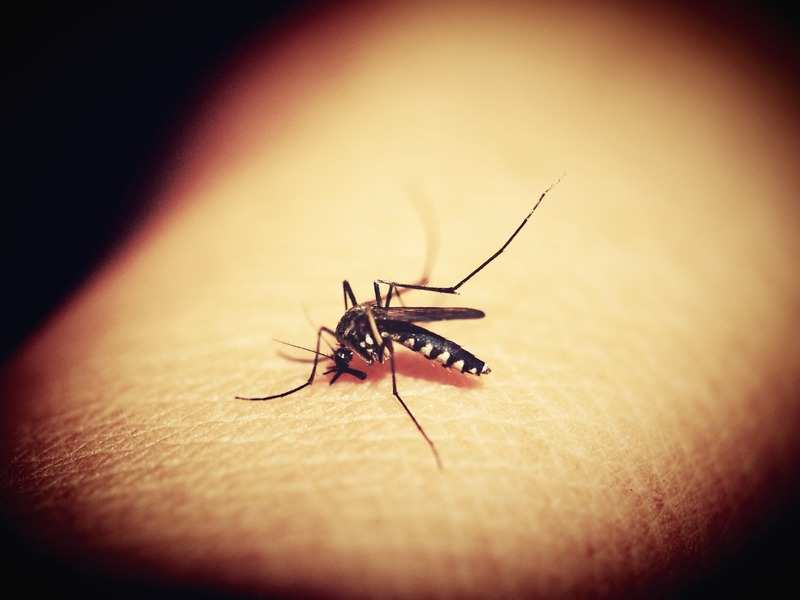mosquito: (231, 190, 574, 472)
